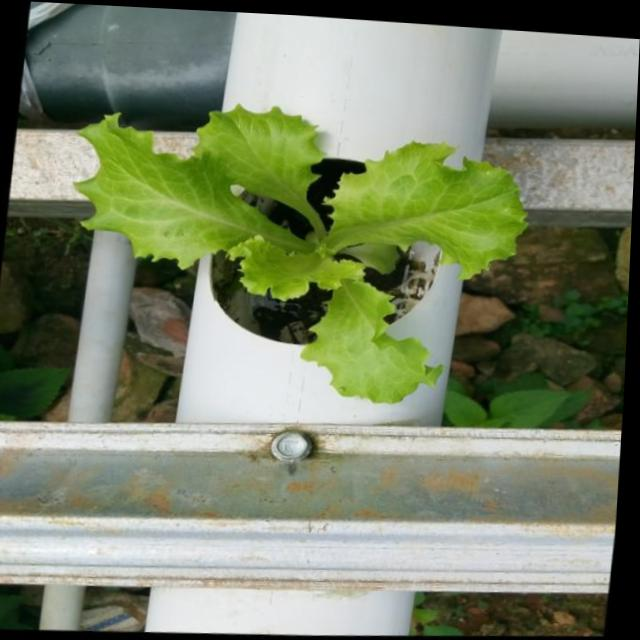Baby: (76, 105, 526, 425)
